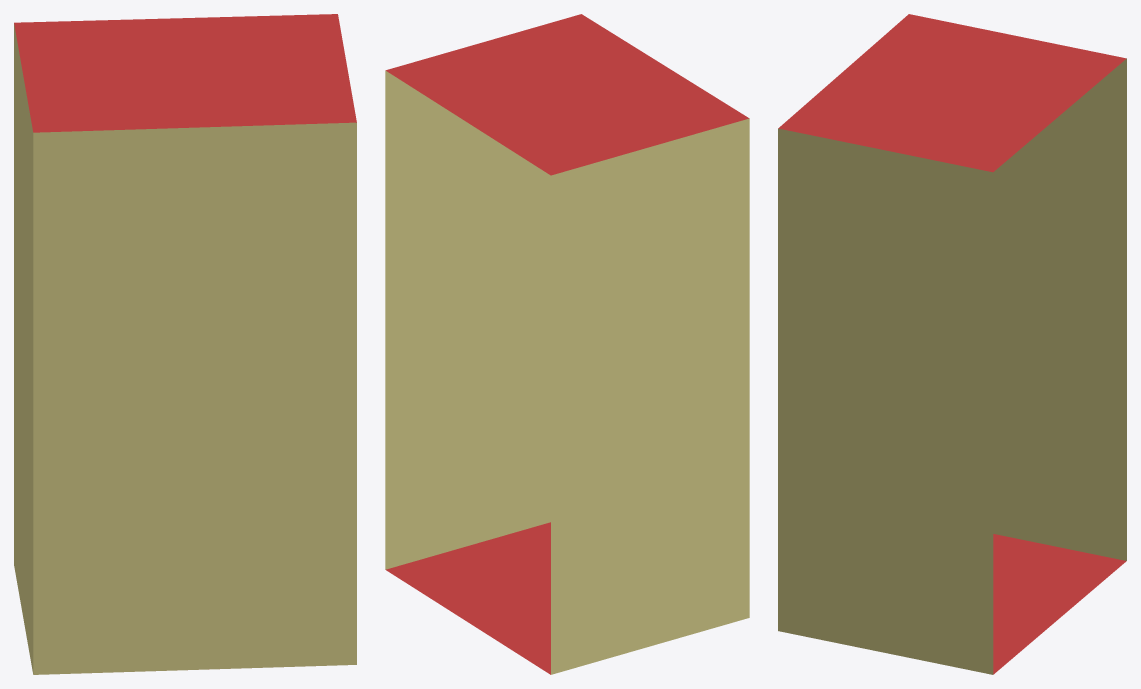
3 renders of one model, left to right at view 1: azimuth 30°, elevation 25°; view 2: azimuth 150°, elevation 25°; view 3: azimuth 270°, elevation 25°, orthographic. The views are drawn at different scales.
Visible parts, largest first — view 1: group_4, group_3; view 2: group_4, group_3, group_5; view 3: group_4, group_3, group_5.
Boxes of the visible parts, bbox=[...] form: group_4: bbox=[14, 24, 356, 674]; group_3: bbox=[14, 14, 356, 132]; group_4: bbox=[385, 70, 749, 674]; group_3: bbox=[385, 14, 749, 175]; group_5: bbox=[385, 522, 550, 674]; group_4: bbox=[778, 58, 1126, 674]; group_3: bbox=[778, 14, 1126, 172]; group_5: bbox=[993, 534, 1126, 674].
Bounding box in the file's own units: 6.63 × 6.17 × 9.81.
